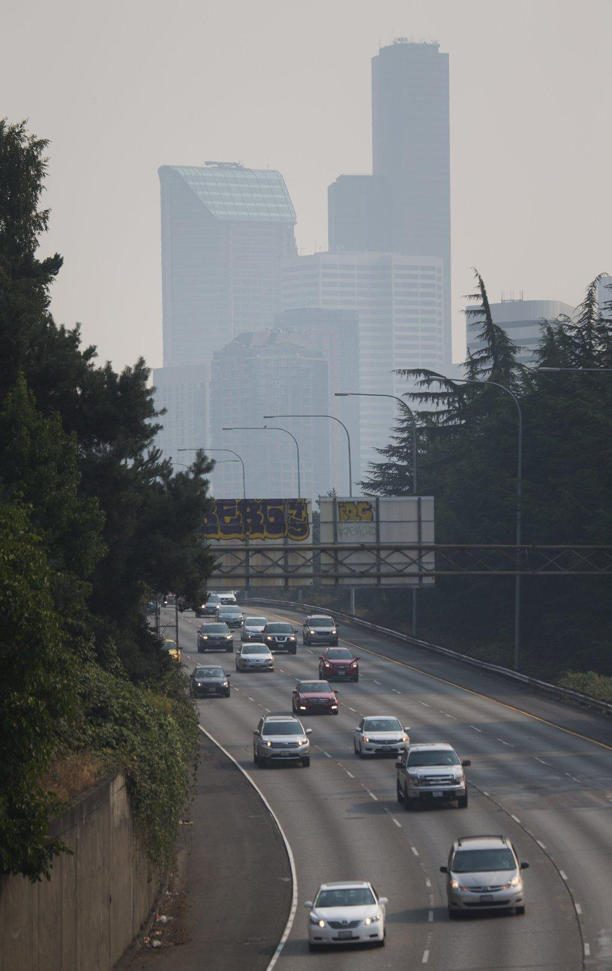bus: (211, 587, 238, 609)
car: (438, 833, 531, 920), (303, 880, 390, 952), (393, 741, 472, 811), (252, 711, 314, 769), (352, 713, 411, 761), (289, 680, 340, 717), (317, 647, 361, 684), (188, 665, 234, 699), (301, 614, 341, 649), (260, 621, 299, 655), (235, 642, 275, 674), (196, 621, 236, 653), (238, 616, 272, 644), (156, 638, 184, 670), (213, 605, 247, 629), (193, 594, 222, 619), (160, 589, 184, 609), (141, 598, 162, 616)
